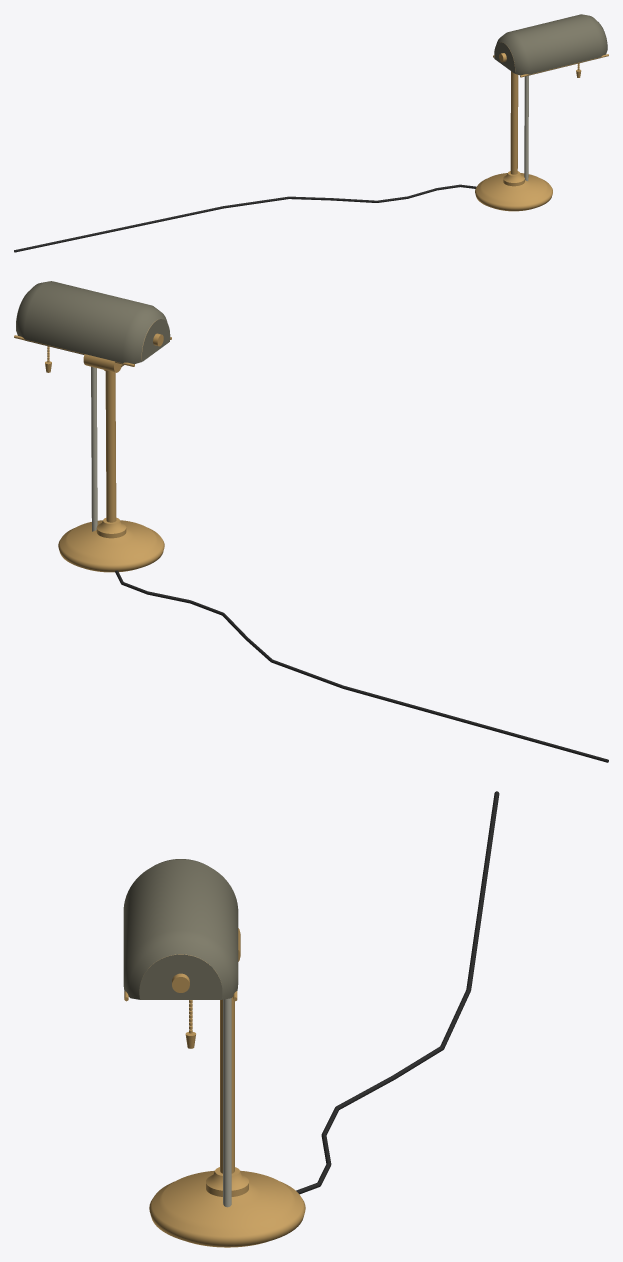
File: Executive.glb
3 renders of one model, top to bottom at view 1: azimuth 30°, elevation 25°; view 2: azimuth 150°, elevation 25°; view 3: azimuth 270°, elevation 25°, orthographic. The views are drawn at different scales.
Parts seen in each view (by area): view 1: Enamel gallery, Weighted base, Post, Power lead, Anglepoise link, Shade end; view 2: Enamel gallery, Weighted base, Post, Power lead, Anglepoise link, Shade end; view 3: Enamel gallery, Weighted base, Shade end, Anglepoise link, Post, Power lead, Turned stem collar.
Boxes of the visible parts, x1,y1,x2,y2 form: Enamel gallery: (496,14,607,75); Weighted base: (475,173,552,211); Post: (510,71,518,174); Power lead: (14,206,223,252); Anglepoise link: (524,75,528,181); Shade end: (494,42,514,73); Enamel gallery: (16,281,167,364); Weighted base: (58,520,164,572); Post: (105,370,116,522); Power lead: (342,685,608,762); Anglepoise link: (91,366,97,531); Shade end: (142,319,170,361); Enamel gallery: (123,859,238,999); Weighted base: (149,1170,305,1247); Shade end: (139,954,222,999); Anglepoise link: (223,998,231,1207); Post: (220,997,234,1173); Power lead: (466,791,499,989); Turned stem collar: (206,1167,248,1196).
Bounding box in the file's own units: 7.04 × 2.32 × 2.26.
